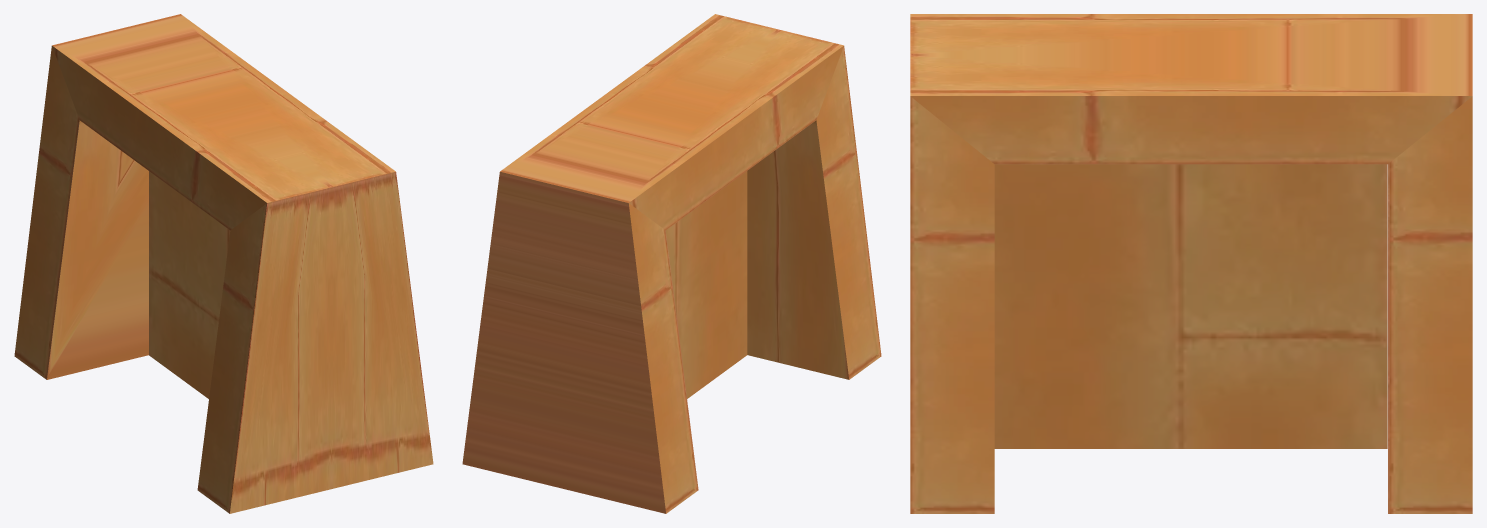
The model's file is pm-temple-embelisher-03.glb.
3 views of the same model, side by side, from view 1: azimuth 30°, elevation 25°; view 2: azimuth 150°, elevation 25°; view 3: azimuth 270°, elevation 25° (orthographic). The views are drawn at different scales.
Parts seen in each view (by area): view 1: TempleEmbelisher03_Art; view 2: TempleEmbelisher03_Art; view 3: TempleEmbelisher03_Art.
Boxes of the visible parts, bbox=[...] form: TempleEmbelisher03_Art: bbox=[14, 14, 433, 513]; TempleEmbelisher03_Art: bbox=[462, 14, 881, 513]; TempleEmbelisher03_Art: bbox=[910, 14, 1472, 513].
Size of the model in its own units: 3.65 by 5.16 by 6.68.
Materials: 1 (1 with a texture image).
